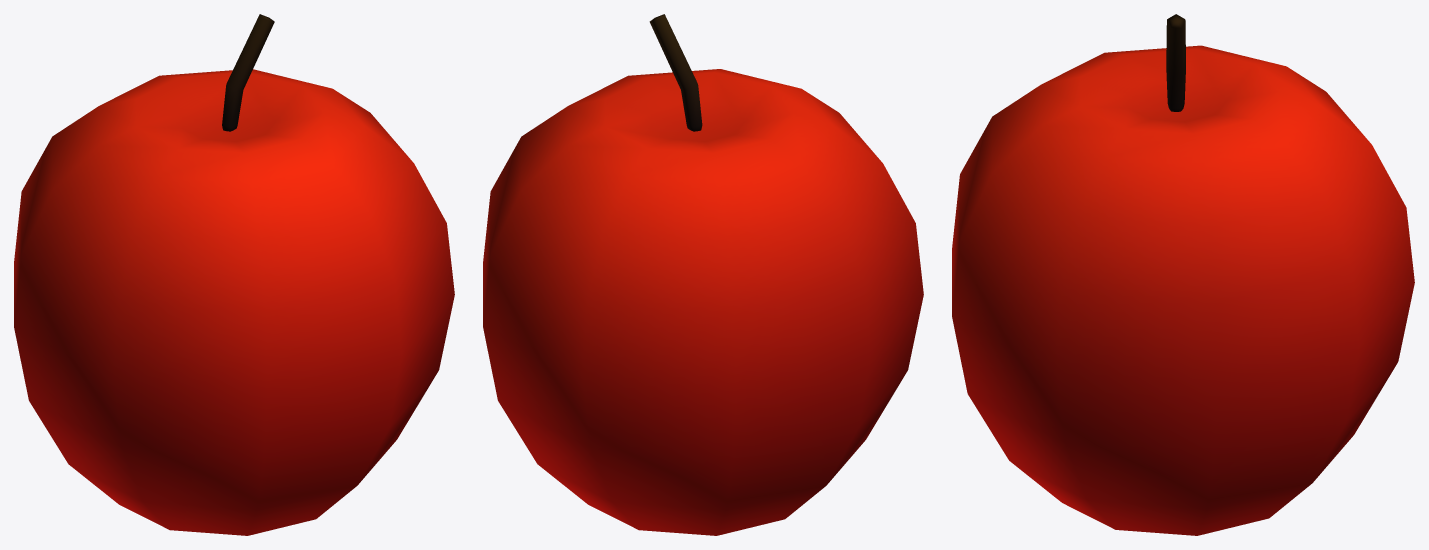
File: Apple_Regular.fbx
The picture shows the model from 3 angles, left to right: view 1: azimuth 30°, elevation 25°; view 2: azimuth 150°, elevation 25°; view 3: azimuth 270°, elevation 25°; orthographic projection. The views are drawn at different scales.
Visible parts, largest first — view 1: Apple_Regular; view 2: Apple_Regular; view 3: Apple_Regular.
Part boxes in pixels (left/top/right/bottom): Apple_Regular: left=14, top=14, right=454, bottom=535; Apple_Regular: left=483, top=14, right=923, bottom=535; Apple_Regular: left=952, top=14, right=1414, bottom=535.
Size of the model in its own units: 23.2 by 28.22 by 22.84.
